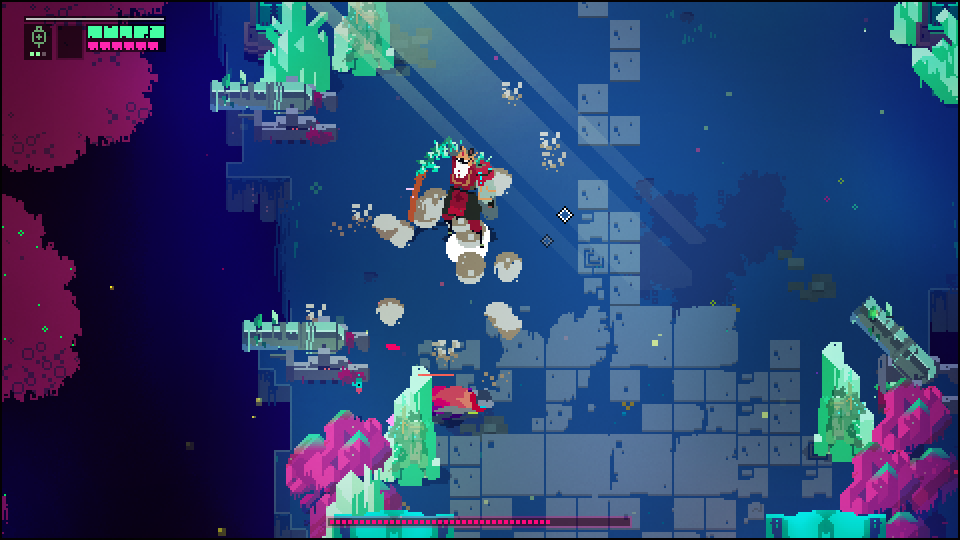hanged_man: (401, 134, 499, 245)
player: (421, 379, 492, 418)
